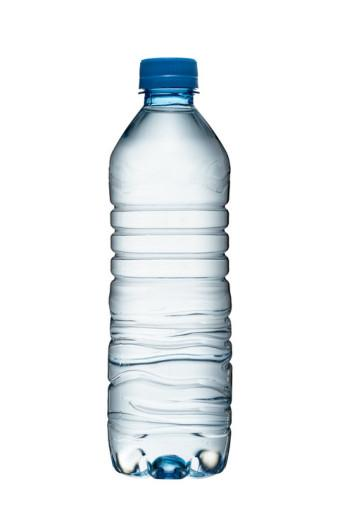plastic_bottle: (106, 51, 243, 484)
